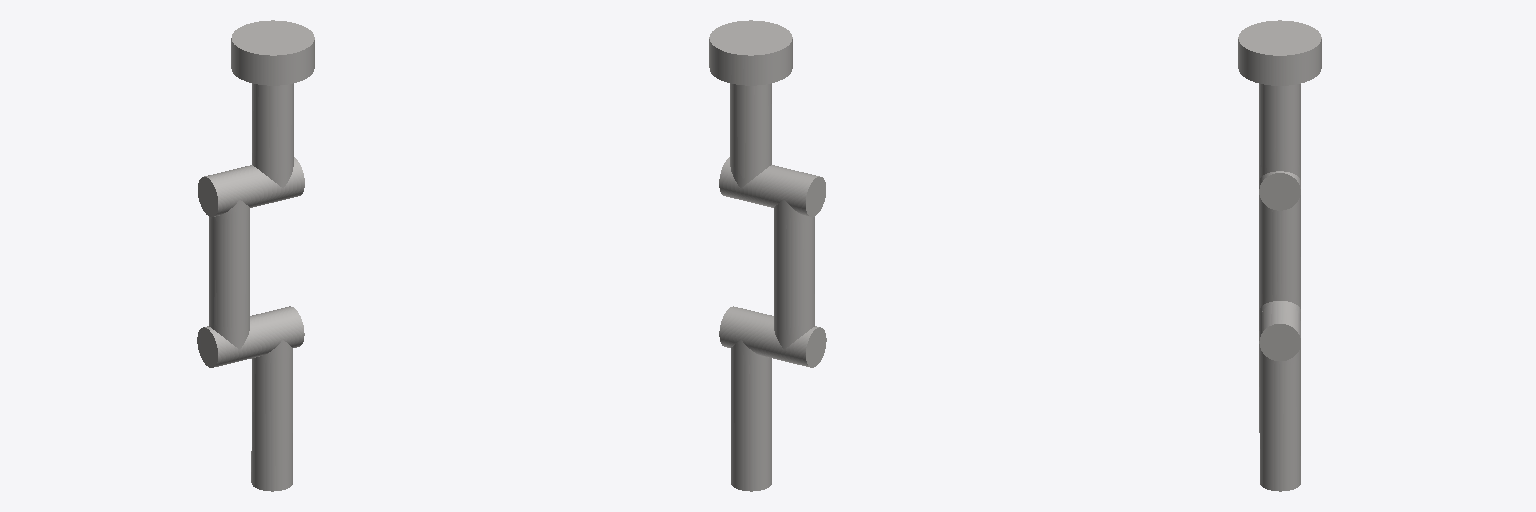
URDF robot description (arm):
<robot name="arm">
    <link name="world" />
    <joint name="base_joint" type="fixed">
        <origin xyz="0 0 1.5" rpy="0 -3.14 0 " />
        <parent link="world" />
        <child link="base" />
    </joint>
    <link name="base">
        <visual>
            <geometry>
                <mesh filename="package://arm_description/meshes/Base.dae" />
            </geometry>
        </visual>
        <collision>
            <geometry>
                <mesh filename="package://arm_description/meshes/Base.dae" />
            </geometry>
        </collision>

        <inertial>
            <mass value="2.664" />
            <inertia ixx="0.0123" iyy="0.0123" izz="0.0133" ixy="0.0" ixz="0.0" iyz="0.0" />
        </inertial>

    </link>
    <link name="link1">
        <visual>
            <geometry>
                <mesh filename="package://arm_description/meshes/Link1.dae" />
            </geometry>
        </visual>
        <collision>
            <geometry>
                <mesh filename="package://arm_description/meshes/Link1.dae" />
            </geometry>
        </collision>

        <inertial>
            <mass value="3.143" />
            <inertia ixx="0.1406" iyy="0.1401" izz="0.0045" ixy="0.0" ixz="0.0" iyz="0.0" />
        </inertial>

    </link>
    <link name="link2">
        <visual>
            <geometry>
                <mesh filename="package://arm_description/meshes/Link2.dae" />
            </geometry>
        </visual>
        <collision>
            <geometry>
                <mesh filename="package://arm_description/meshes/Link2.dae" />
            </geometry>
        </collision>

        <inertial>
            <mass value="4.621" />
            <inertia ixx="0.0069" iyy="0.2919" izz="0.2909" ixy="0.0" ixz="0.0" iyz="0.0" />
        </inertial>

    </link>
    <link name="link3">
        <visual>
            <geometry>
                <mesh filename="package://arm_description/meshes/Link3.dae" />
            </geometry>
        </visual>
        <collision>
            <geometry>
                <mesh filename="package://arm_description/meshes/Link3.dae" />
            </geometry>
        </collision>

        <inertial>
            <mass value="3.976" />
            <inertia ixx="0.0056" iyy="0.1810" izz="0.1805" ixy="0.0" ixz="0.0" iyz="0.0" />
        </inertial>

    </link>
    <link name="EE" />
    <joint name="joint1" type="revolute">
        <origin xyz="0 0 0.080" rpy="0 0 0 " />
        <limit lower="-3" upper="3" effort="30.0" velocity="6" />
        <parent link="base" />
        <child link="link1" />
        <axis xyz="0 0 1" />
        <safety_controller k_position="100.0" k_velocity="40.0" soft_lower_limit="-3" soft_upper_limit="3" />
    </joint>
    <joint name="joint2" type="revolute">
        <origin xyz="0.12 0 0.3" rpy="1.57 -1.57 1.57 " />
        <limit lower="-3" upper="3" effort="30.0" velocity="6" />
        <parent link="link1" />
        <child link="link2" />
        <axis xyz="0 0 1" />
        <safety_controller k_position="100.0" k_velocity="40.0" soft_lower_limit="-3" soft_upper_limit="3" />
    </joint>
    <joint name="joint3" type="revolute">
        <origin xyz="0.4 0 -.12" rpy="0 0 0 " />
        <limit lower="-3" upper="3" effort="30.0" velocity="6" />
        <parent link="link2" />
        <child link="link3" />
        <axis xyz="0 0 1" />
        <safety_controller k_position="100.0" k_velocity="40.0" soft_lower_limit="-3" soft_upper_limit="3" />
    </joint>
    <joint name="joint_EE" type="fixed">
        <origin xyz="0.4 0 0" rpy="0 0 0 " />
        <parent link="link3" />
        <child link="EE" />
    </joint>

    <transmission name="trans_joint1">
        <type>transmission_interface/SimpleTransmission</type>
        <joint name="joint1">
            <hardwareInterface>hardware_interface/EffortJointInterface</hardwareInterface>
        </joint>
        <actuator name="joint1_motor">
            <hardwareInterface>hardware_interface/EffortJointInterface</hardwareInterface>
            <mechanicalReduction>1</mechanicalReduction>
        </actuator>
    </transmission>
    <transmission name="trans_joint2">
        <type>transmission_interface/SimpleTransmission</type>
        <joint name="joint2">
            <hardwareInterface>hardware_interface/EffortJointInterface</hardwareInterface>
        </joint>
        <actuator name="joint2_motor">
            <hardwareInterface>hardware_interface/EffortJointInterface</hardwareInterface>
            <mechanicalReduction>1</mechanicalReduction>
        </actuator>
    </transmission>
    <transmission name="trans_joint3">
        <type>transmission_interface/SimpleTransmission</type>
        <joint name="joint3">
            <hardwareInterface>hardware_interface/EffortJointInterface</hardwareInterface>
        </joint>
        <actuator name="joint3_motor">
            <hardwareInterface>hardware_interface/EffortJointInterface</hardwareInterface>
            <mechanicalReduction>1</mechanicalReduction>
        </actuator>
    </transmission>
    <gazebo>
        <plugin name="gazebo_ros_control" filename="libgazebo_ros_control.so">
            <robotNamespace>/arm</robotNamespace>
        </plugin>
    </gazebo>
</robot>

--- Render facts (derived) ---
3 views of the same robot in one strip: view 1: azimuth 30°, elevation 25°; view 2: azimuth 150°, elevation 25°; view 3: azimuth 270°, elevation 25° (orthographic).
Robot: arm — 6 links, 5 joints (3 revolute, 2 fixed); root link world; default pose: all joints at 0.
Links seen in each view (by area): view 1: link2, link3, link1, base; view 2: link2, link3, link1, base; view 3: link3, link1, base, link2.
Link boxes in pixels (x1,y1,x2,y2): link2: (197,166,261,367); link3: (250,306,304,491); link1: (249,83,304,205); base: (231,20,314,85); link2: (762,166,826,367); link3: (719,306,773,491); link1: (719,83,774,205); base: (709,20,792,85); link3: (1259,303,1300,491); link1: (1259,84,1300,210); base: (1238,20,1321,85); link2: (1259,195,1300,318).
Size in the robot's own frame: 0.2814 by 0.2 by 1.18 metres.
4 mesh visuals loaded from 4 distinct referenced files (4 Collada DAE).